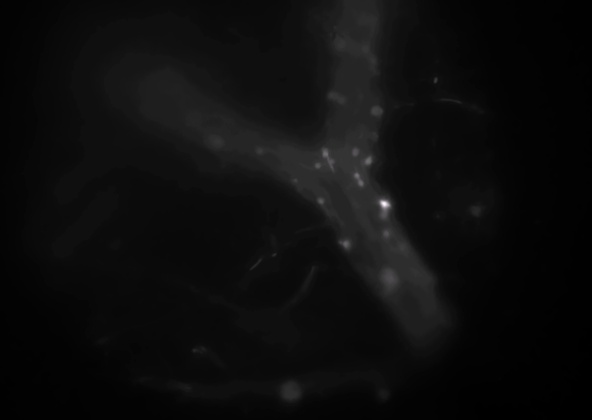cell: (377, 196, 391, 210), (370, 104, 384, 118), (348, 146, 362, 160), (361, 154, 375, 168), (318, 143, 332, 157), (310, 158, 324, 172), (325, 156, 339, 170), (326, 89, 340, 103), (350, 169, 364, 183), (334, 91, 348, 105), (353, 176, 367, 190), (339, 236, 353, 250), (382, 272, 396, 286), (379, 227, 393, 241), (380, 196, 394, 210), (377, 207, 391, 221), (376, 200, 390, 214), (313, 195, 327, 209), (288, 174, 302, 188), (252, 144, 266, 158), (207, 134, 221, 148), (358, 43, 372, 57), (366, 54, 380, 68), (333, 38, 347, 52), (367, 129, 381, 143)
